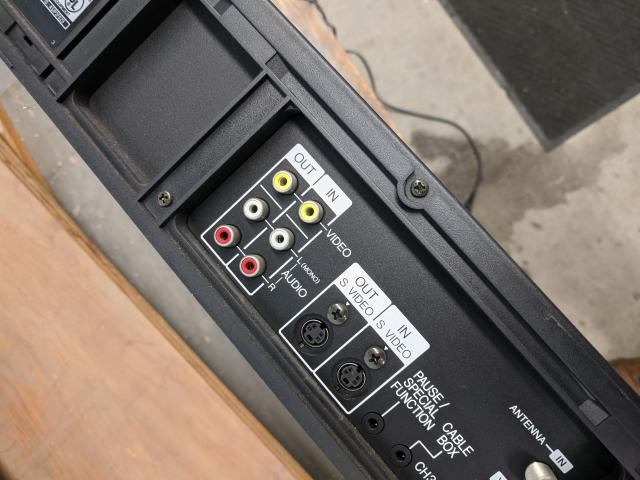CRS: (363, 346, 387, 370), (328, 301, 348, 326), (412, 177, 430, 198), (156, 191, 173, 208)
